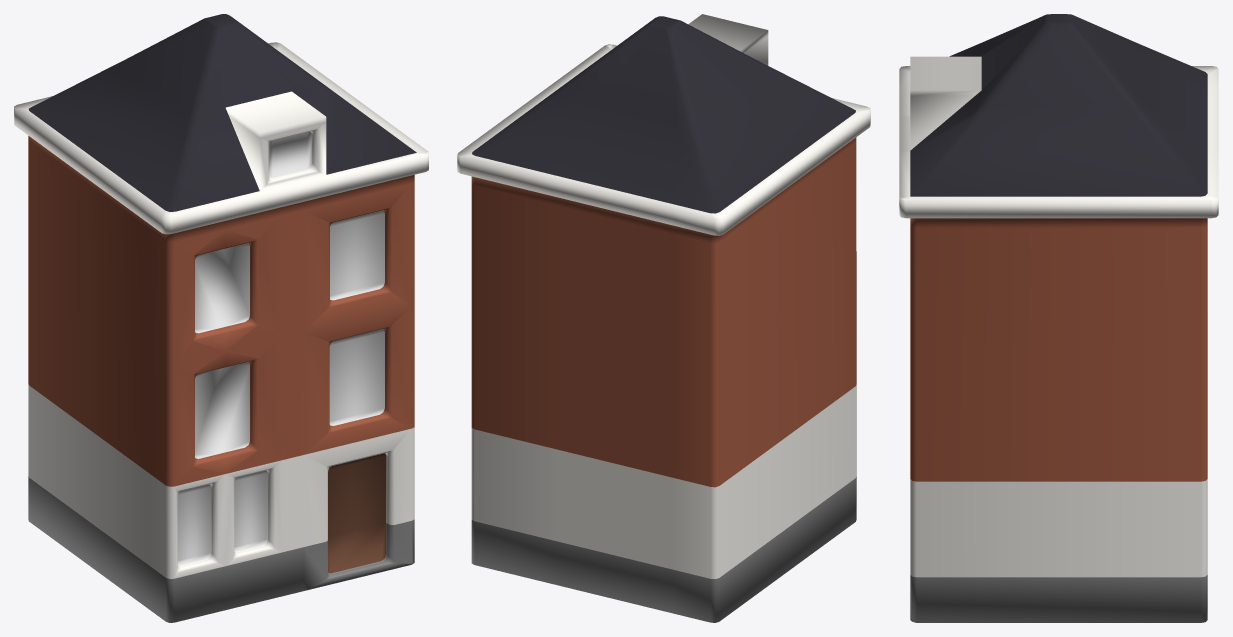
Rendered from Huis.fbx.
3 renders of one model, left to right at view 1: azimuth 30°, elevation 25°; view 2: azimuth 150°, elevation 25°; view 3: azimuth 270°, elevation 25°, orthographic. The views are drawn at different scales.
Parts seen in each view (by area): view 1: huis; view 2: huis; view 3: huis.
Part boxes in pixels (bbox=[...]): huis: bbox=[14, 14, 428, 622]; huis: bbox=[457, 14, 870, 622]; huis: bbox=[899, 14, 1218, 622].
Bounding box in the file's own units: 160 × 300 × 160.
